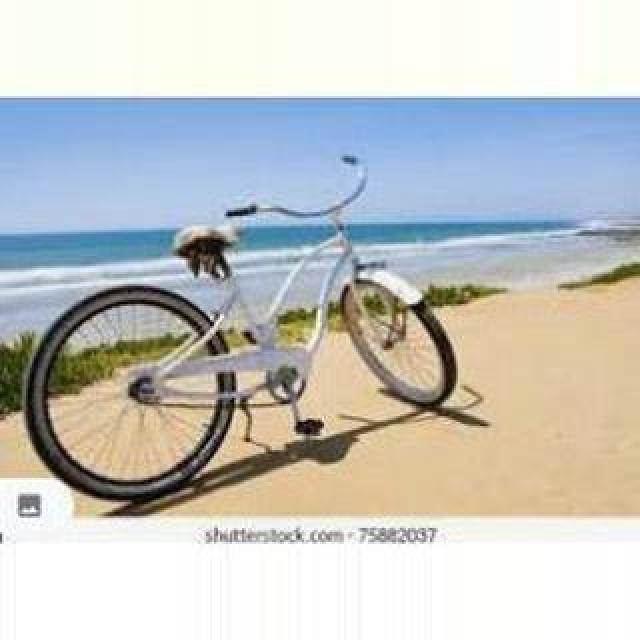Person: (19, 149, 473, 513)
